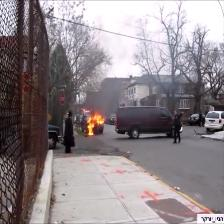fire: (81, 103, 109, 148)
